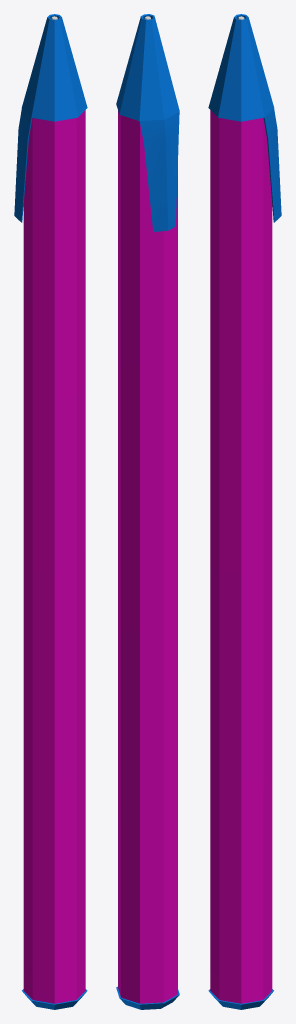
The model's file is fbx_Stylo_v1.1.fbx.
The picture shows the model from 3 angles, left to right: view 1: azimuth 90°, elevation 25°; view 2: azimuth 210°, elevation 25°; view 3: azimuth 270°, elevation 25°; orthographic projection.
Visible parts, largest first — view 1: pCylinder10, pCylinder16; view 2: pCylinder10, pCylinder16; view 3: pCylinder10, pCylinder16.
Boxes of the visible parts, <box> form: pCylinder10: <box>22,16,87,1009</box>; pCylinder16: <box>14,14,87,222</box>; pCylinder10: <box>116,16,179,1009</box>; pCylinder16: <box>116,14,179,231</box>; pCylinder10: <box>208,16,273,1009</box>; pCylinder16: <box>208,14,281,222</box>.
Size of the model in its own units: 1.77 by 29.02 by 1.96.
